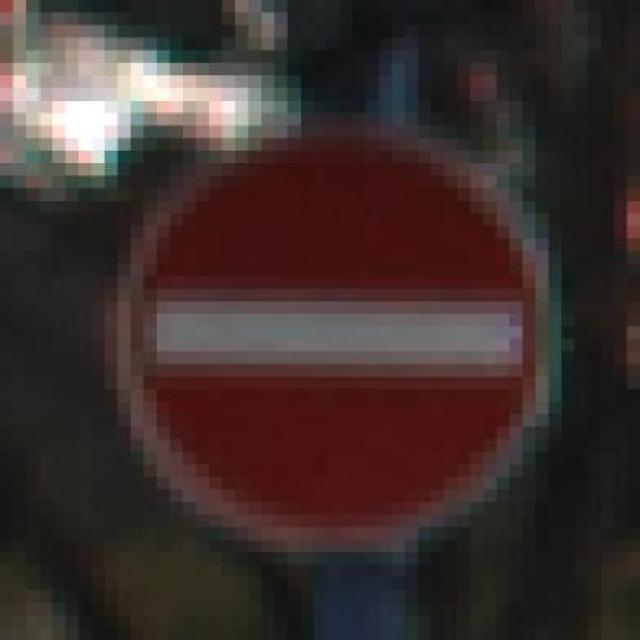B2: (112, 126, 540, 554)
